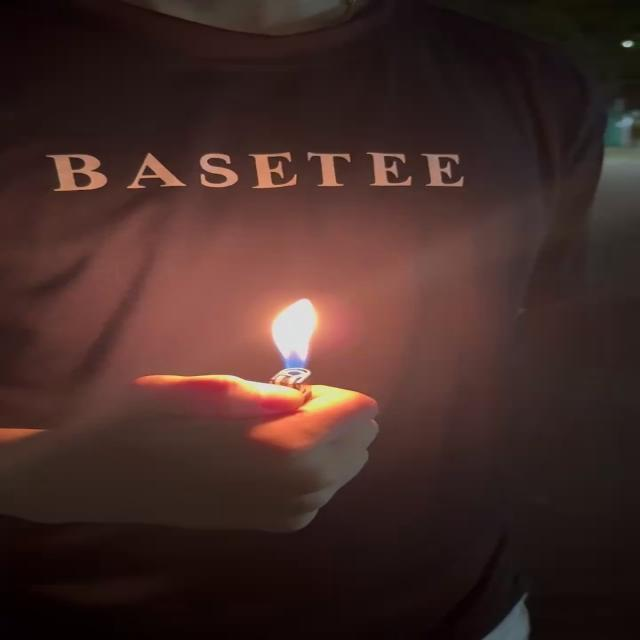Fire: (270, 299, 324, 377)
